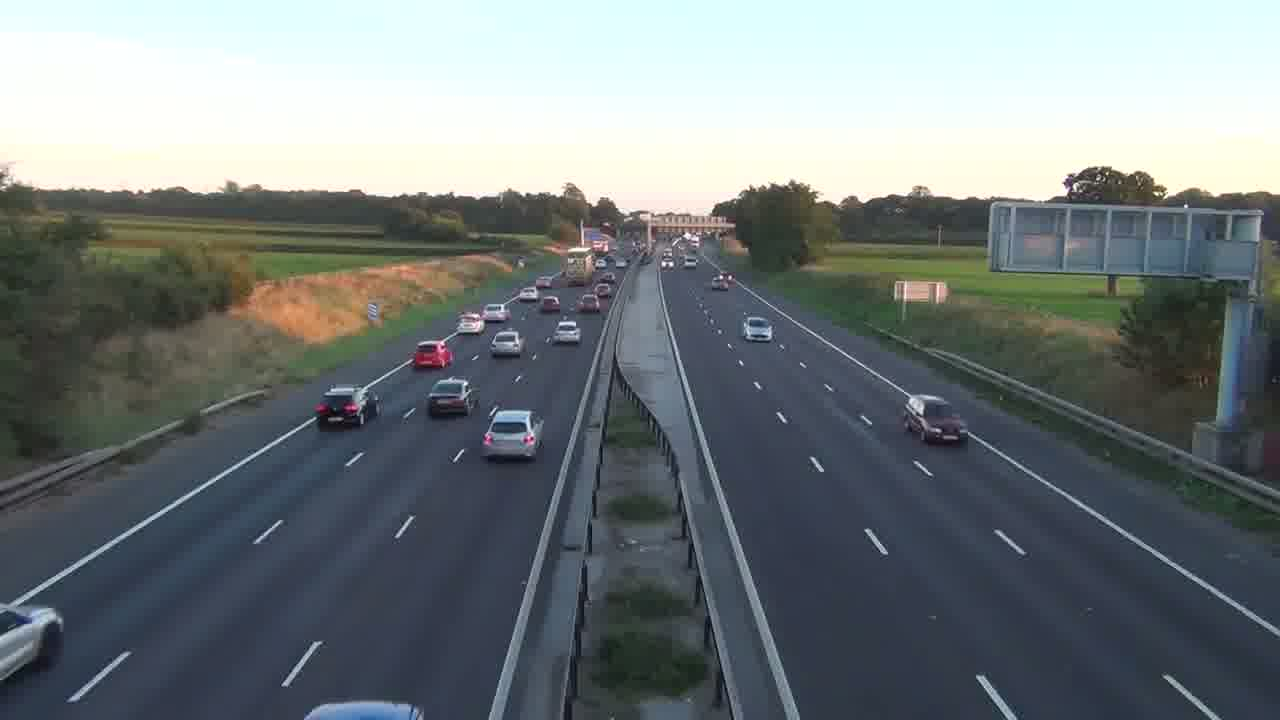car: (0, 600, 64, 684), (480, 408, 546, 462), (902, 394, 964, 445), (313, 385, 381, 429), (426, 377, 474, 419), (413, 340, 453, 369), (489, 329, 523, 358), (741, 315, 773, 341), (550, 319, 581, 345)
